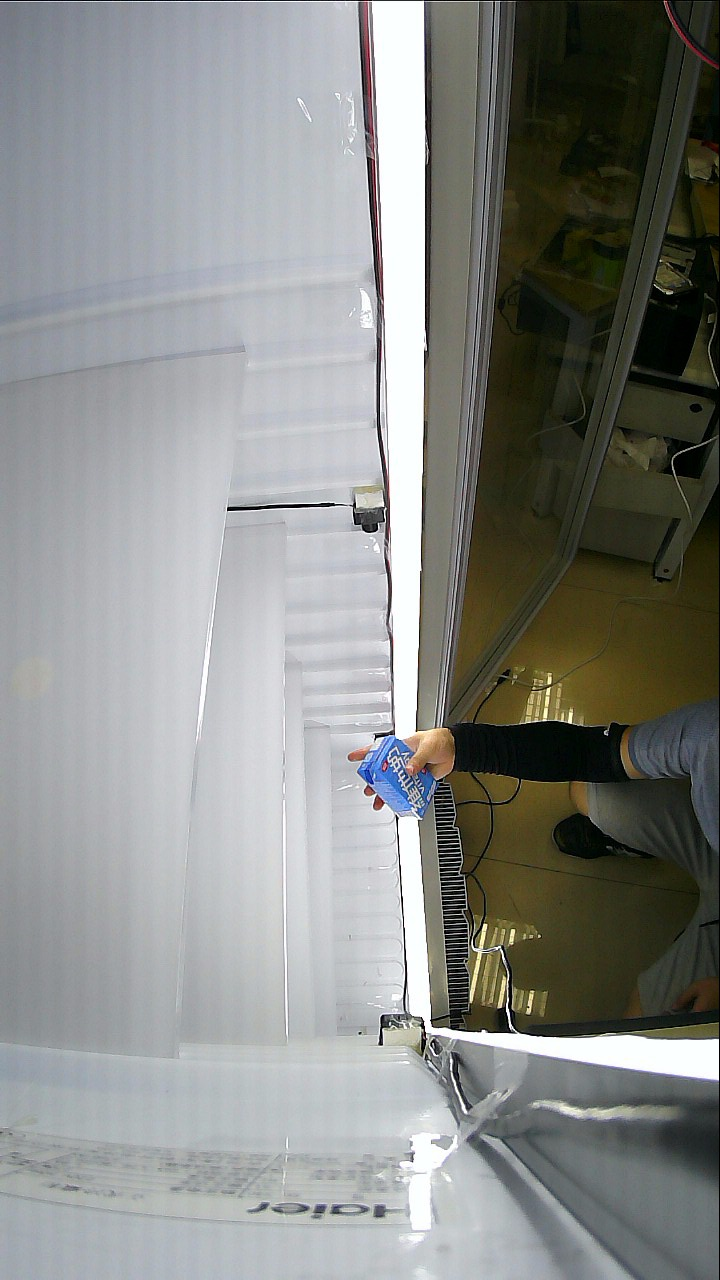VitaSoyOriginal: (353, 728, 502, 822)
